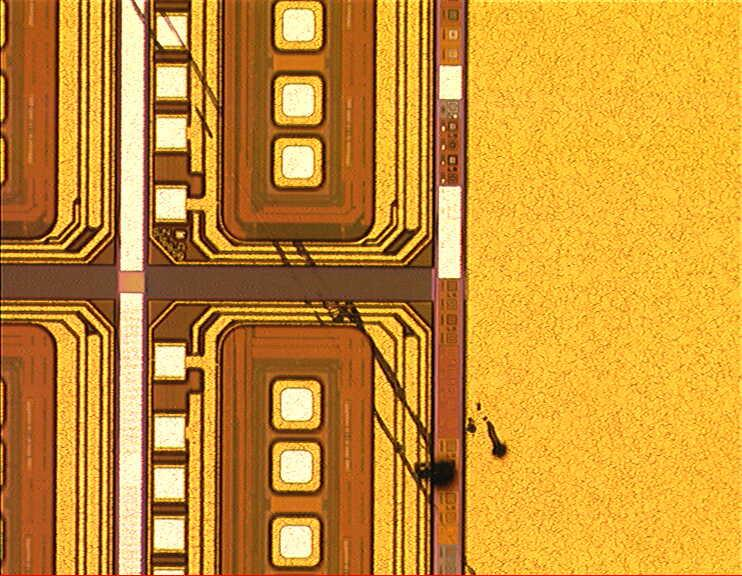SCRATCH: (120, 1, 521, 575)
